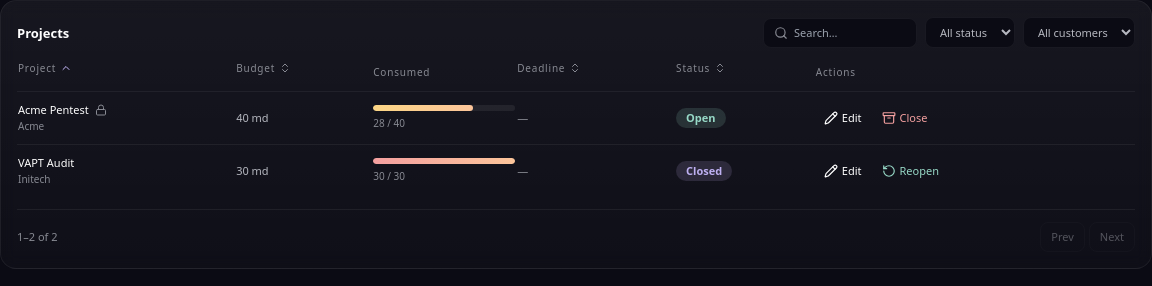
Test case: ProjectsTable › shows an empty state when nothing matches the search
The image size is (1152, 286).
Type "zzz" into the field named "Search projects" at (850, 32), box [794, 24, 906, 40]
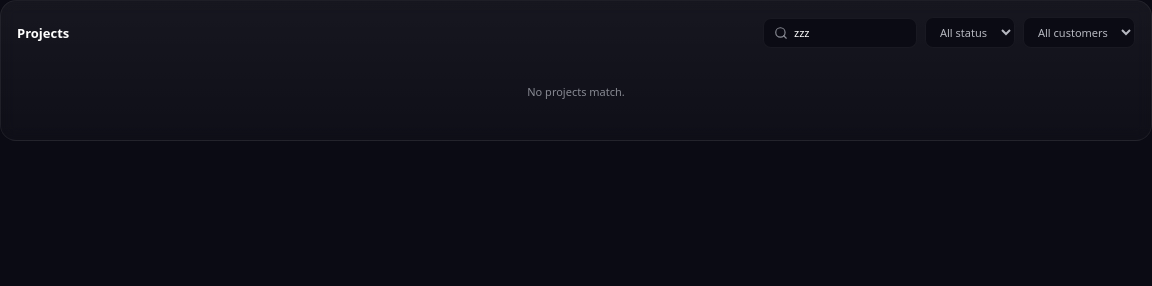
Expected: the text "No projects match." is shown, [527, 84, 625, 99]
